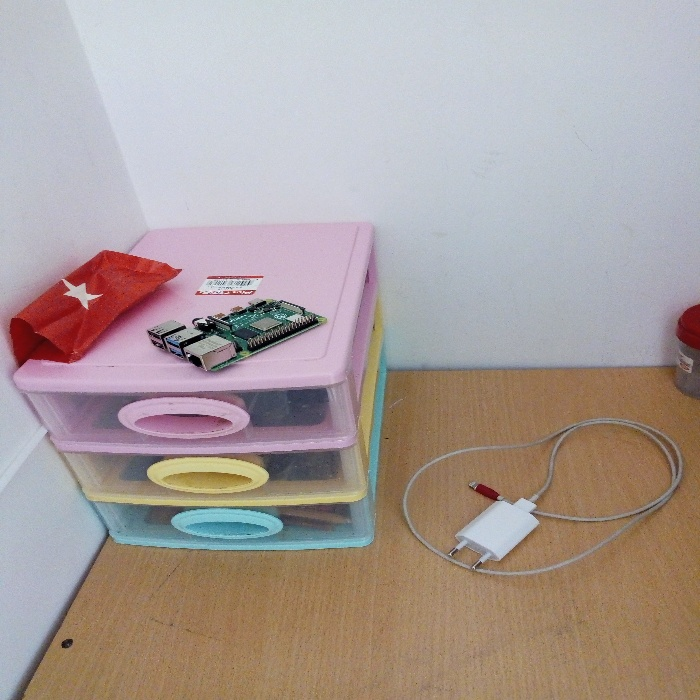raspberry: (143, 284, 331, 373)
